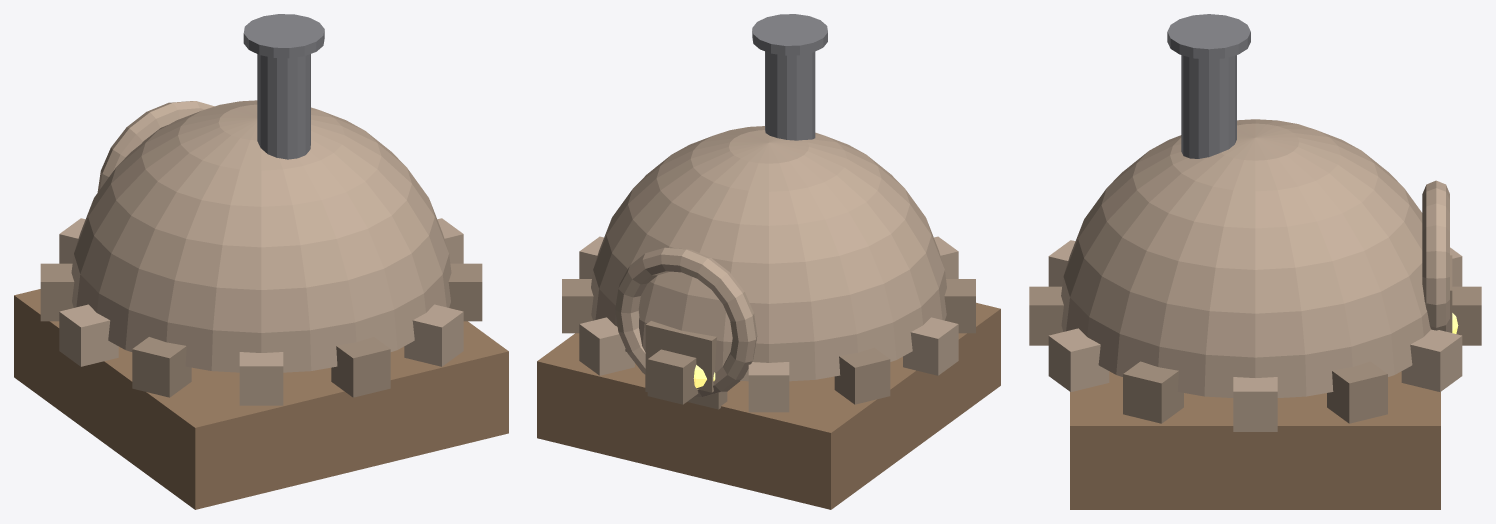
The model's file is oven.glb.
3 views of the same model, side by side, from view 1: azimuth 30°, elevation 25°; view 2: azimuth 150°, elevation 25°; view 3: azimuth 270°, elevation 25° (orthographic). The views are drawn at different scales.
Parts seen in each view (by area): view 1: Dome, OvenBase, Chimney, ChimneyCap, Block7, Block9, Block6, Block10, Arch, Block8, Block5, Block11 (+2 smaller); view 2: Dome, OvenBase, Arch, Chimney, ChimneyCap, Block5, Block6, Cavity, Block2, Block3, Block4, Block1 (+3 smaller); view 3: Dome, OvenBase, Chimney, Arch, ChimneyCap, Block1, Block11, Block10, Block2, Block0, Block9, Block3 (+1 smaller).
Boxes of the visible parts, <box> form: Dome: <box>71,100,451,372</box>; OvenBase: <box>14,289,508,509</box>; Chimney: <box>257,54,310,159</box>; ChimneyCap: <box>243,14,324,58</box>; Block7: <box>132,337,191,397</box>; Block9: <box>331,337,390,397</box>; Block6: <box>59,304,118,366</box>; Block10: <box>404,304,463,366</box>; Arch: <box>97,101,214,192</box>; Block8: <box>239,352,283,405</box>; Block5: <box>40,263,74,321</box>; Block11: <box>448,263,482,321</box>; Dome: <box>591,126,946,381</box>; OvenBase: <box>537,302,1000,509</box>; Arch: <box>615,247,757,396</box>; Chimney: <box>765,51,815,140</box>; ChimneyCap: <box>752,14,827,55</box>; Block5: <box>834,347,890,404</box>; Block6: <box>903,317,958,375</box>; Cavity: <box>645,321,716,392</box>; Block2: <box>579,317,634,375</box>; Block3: <box>647,349,698,404</box>; Block4: <box>748,362,789,412</box>; Block1: <box>562,279,593,333</box>; Dome: <box>1061,119,1430,397</box>; OvenBase: <box>1070,371,1440,509</box>; Chimney: <box>1181,55,1236,158</box>; Arch: <box>1422,180,1449,332</box>; ChimneyCap: <box>1167,14,1250,59</box>; Block1: <box>1327,361,1387,423</box>; Block11: <box>1123,361,1183,423</box>; Block10: <box>1048,328,1109,391</box>; Block2: <box>1401,329,1462,391</box>; Block0: <box>1233,377,1277,431</box>; Block9: <box>1029,286,1063,345</box>; Block3: <box>1452,286,1481,345</box>.
Size of the model in its own units: 1.95 by 1.9 by 1.95.
